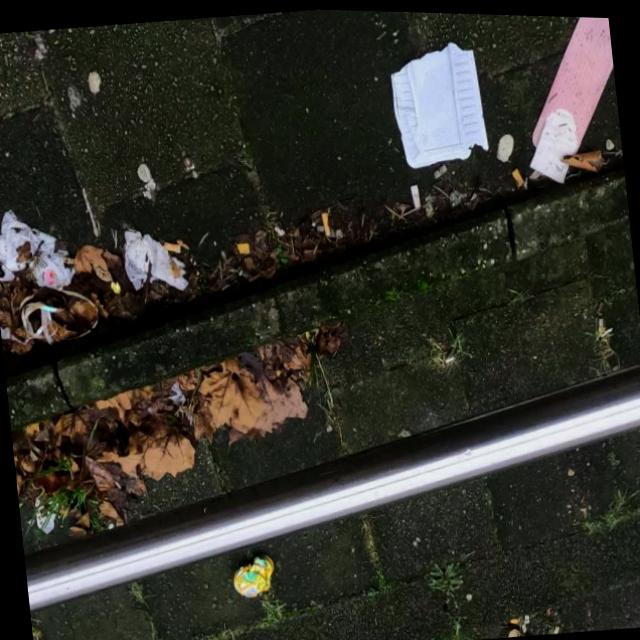Can-Metal: (226, 546, 277, 602)
Paper: (367, 19, 493, 168)
